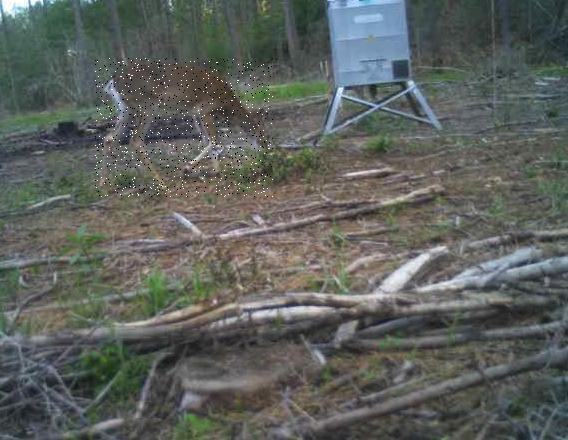Deer: (94, 58, 272, 197)
